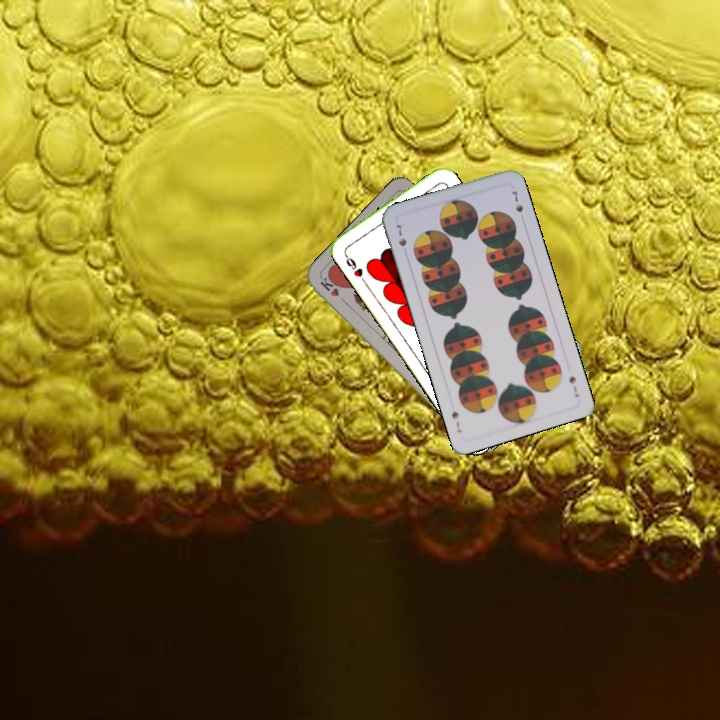H9: (340, 249, 368, 285)
HK: (317, 273, 350, 307)
S7: (392, 220, 409, 249), (565, 371, 582, 400)
